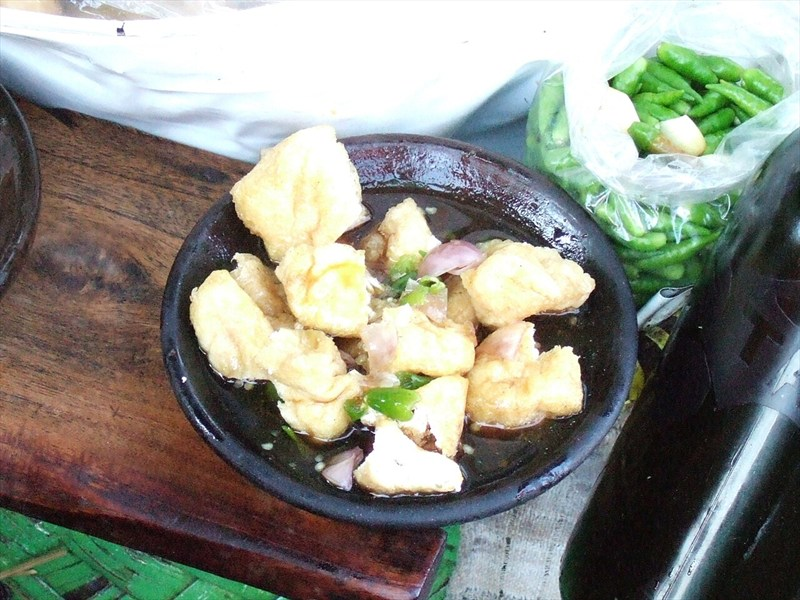Tahu Goreng: (177, 74, 758, 501)
